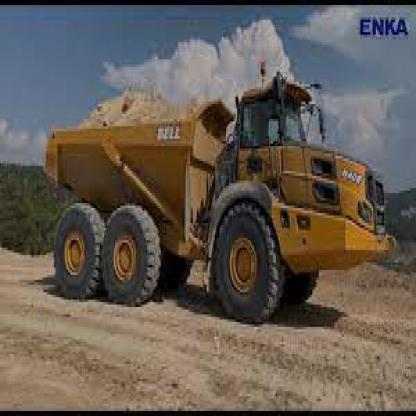dump_truck: (33, 40, 397, 341)
